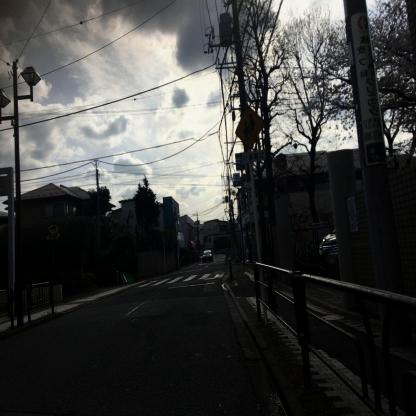Someiyoshino: (306, 0, 416, 167)
